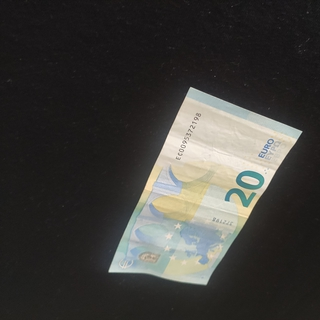20EUROBack: (108, 86, 303, 286)
